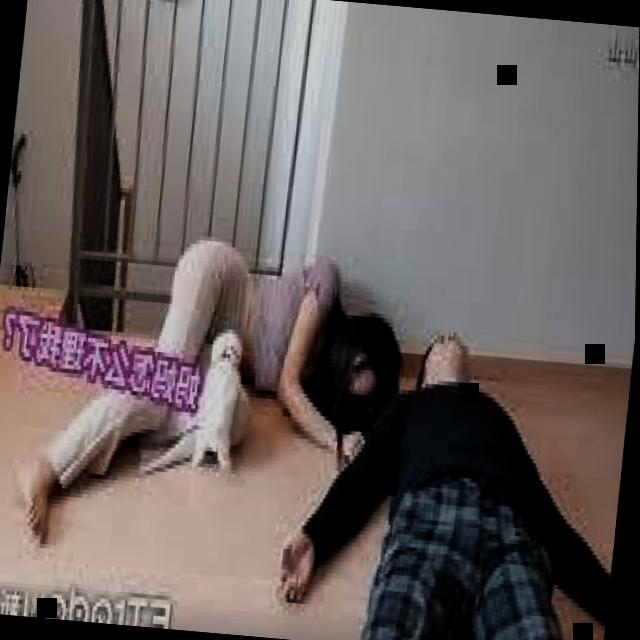Fall-Detected: (5, 205, 418, 569)
